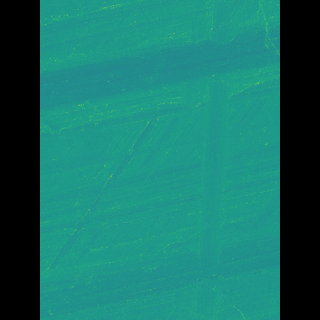Loch: (68, 65, 249, 146), (183, 0, 225, 320)
